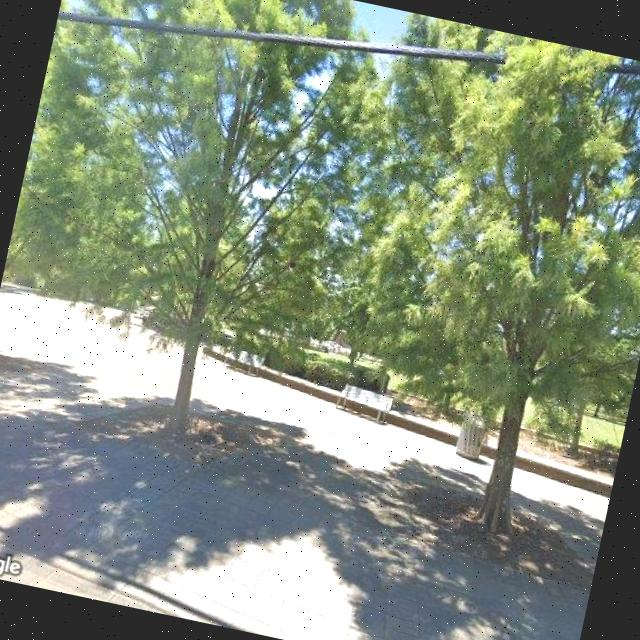seating: (335, 382, 394, 424)
trash_can: (452, 415, 487, 461)
